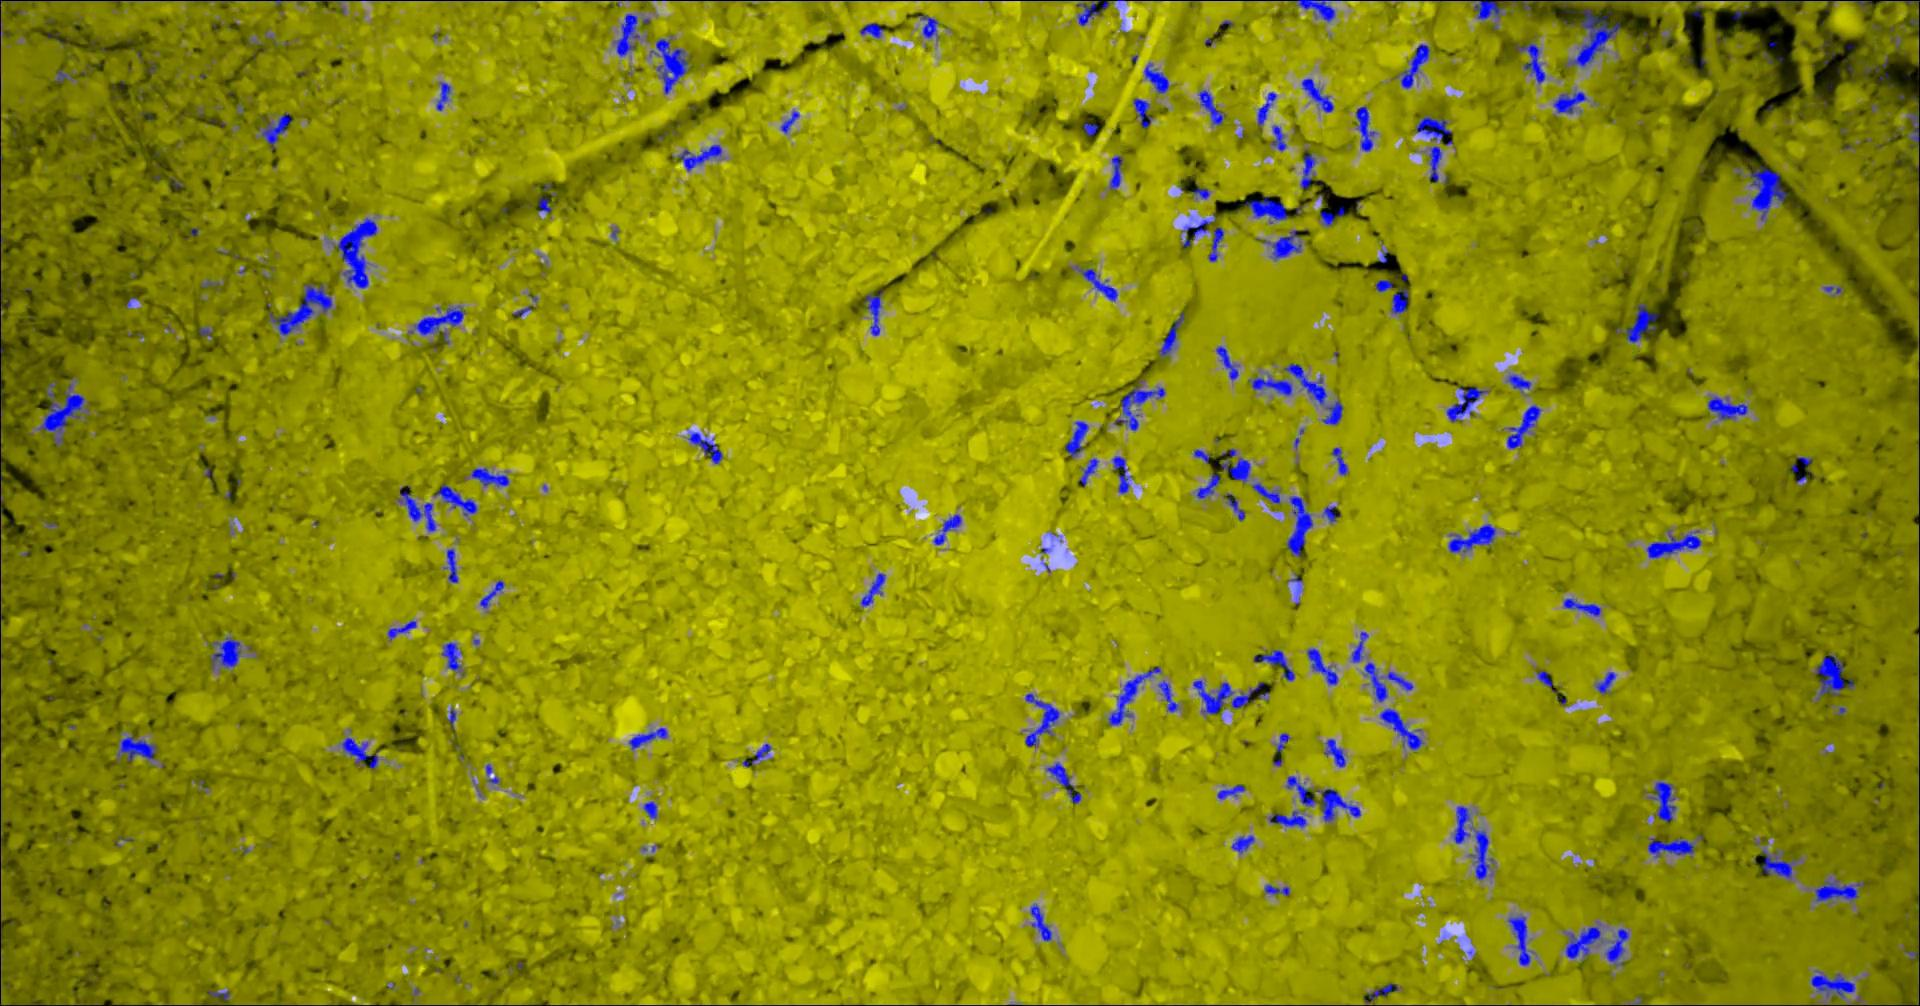ant: (1288, 775, 1363, 821), (1109, 666, 1162, 725), (41, 381, 86, 445), (1455, 805, 1495, 879), (1116, 381, 1166, 431), (1194, 680, 1265, 714), (1751, 163, 1789, 220), (651, 38, 691, 93), (1365, 662, 1415, 701), (1285, 362, 1328, 405), (1026, 694, 1062, 746), (1382, 708, 1425, 749), (1816, 654, 1857, 699), (399, 485, 437, 531), (1288, 495, 1314, 558), (1648, 528, 1703, 558), (616, 13, 651, 56), (1076, 265, 1119, 301), (1397, 43, 1431, 88), (1509, 404, 1542, 448), (417, 305, 466, 334), (1048, 761, 1082, 803), (1448, 387, 1490, 420), (1450, 523, 1497, 553), (1509, 915, 1535, 965), (674, 144, 723, 171), (436, 484, 479, 514), (1627, 304, 1660, 343), (1255, 649, 1297, 680), (1567, 926, 1604, 960), (1812, 970, 1857, 998), (1517, 41, 1547, 83), (263, 112, 295, 150), (1246, 196, 1289, 224), (1263, 230, 1303, 260), (343, 735, 378, 768), (1816, 878, 1865, 901), (1161, 312, 1186, 357), (1650, 781, 1677, 821), (1303, 77, 1335, 112), (690, 432, 724, 464), (1308, 648, 1338, 683), (1293, 0, 1342, 22), (1476, 0, 1531, 19), (1763, 848, 1798, 878), (118, 735, 157, 761), (212, 636, 243, 668), (1650, 837, 1697, 857), (1250, 373, 1293, 395), (1357, 105, 1378, 151), (1200, 89, 1225, 124), (1417, 116, 1453, 141), (1709, 396, 1749, 419), (630, 727, 669, 749), (1182, 218, 1214, 246), (1907, 892, 1920, 962), (1067, 420, 1090, 459), (862, 572, 888, 606), (1608, 929, 1630, 965), (1078, 0, 1111, 25), (935, 514, 963, 544), (866, 290, 884, 335), (1112, 455, 1133, 493), (1032, 903, 1053, 941), (1217, 345, 1239, 379), (443, 641, 466, 674), (1368, 983, 1402, 1005), (1222, 457, 1252, 481), (472, 467, 510, 486), (1556, 91, 1589, 113), (1145, 64, 1170, 93), (1564, 598, 1603, 616), (481, 580, 505, 608), (1159, 680, 1180, 713), (1324, 738, 1347, 767), (1258, 91, 1277, 126), (744, 743, 772, 766), (1253, 481, 1283, 503), (1270, 810, 1308, 827), (1197, 473, 1222, 498), (1134, 98, 1154, 127), (1209, 226, 1225, 260), (1302, 151, 1317, 188), (389, 620, 418, 639), (1321, 205, 1346, 226), (1225, 493, 1246, 520), (919, 14, 940, 39), (1081, 459, 1100, 485), (1352, 631, 1369, 662), (1324, 400, 1345, 424), (444, 547, 458, 582), (1910, 102, 1920, 149), (1865, 56, 1890, 75), (1509, 373, 1533, 392), (1333, 447, 1350, 474), (782, 111, 801, 133), (1111, 155, 1124, 189), (1538, 669, 1557, 692), (1597, 671, 1617, 694), (1233, 835, 1256, 854), (438, 81, 452, 111), (1431, 145, 1443, 180), (1219, 784, 1246, 799), (1393, 288, 1410, 312), (1272, 124, 1288, 150), (861, 22, 885, 37), (210, 989, 231, 1005), (1266, 884, 1291, 895), (1277, 732, 1291, 752), (1324, 506, 1341, 522), (1195, 448, 1211, 464), (1533, 0, 1572, 6), (538, 196, 552, 212), (1195, 187, 1211, 199), (645, 801, 658, 818), (1377, 279, 1394, 291), (58, 69, 74, 81), (1084, 122, 1100, 135), (1825, 285, 1843, 295), (1855, 0, 1872, 9), (1, 376, 3, 432)
